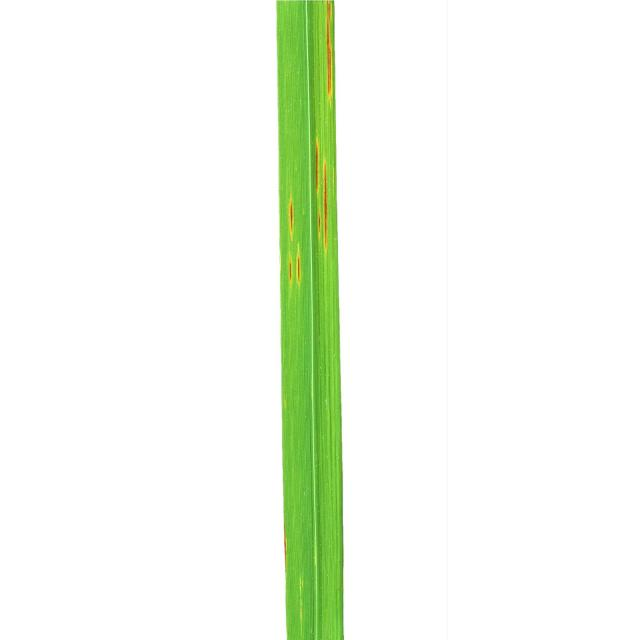Narrow brown: (258, 0, 394, 640)
